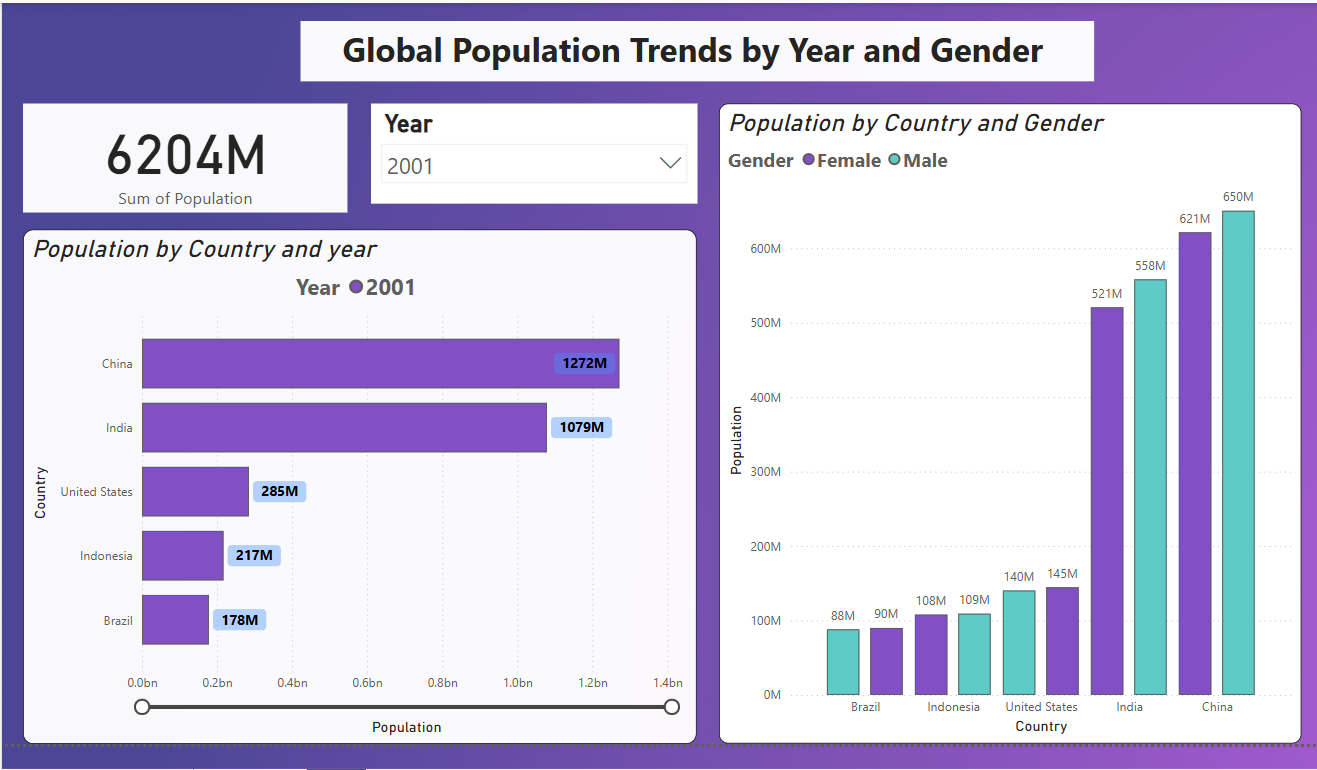

This screenshot's page, from the dashboard's own definition file:
{"tool":"powerbi","page":{"name":"Page 1","canvas":[1280,720],"ordinal":0},"visuals":[{"type":"slicer","fields":{"Values":["worldpopulationdata.Year"]},"box":[357.9,98.2,317.3,97.1],"z":0},{"type":"card","fields":{"Values":["Sum(worldpopulationdata.Population)"]},"box":[20.3,98.2,315,106.1],"z":1000},{"type":"clusteredBarChart","title":"Population by Country and year","fields":{"Category":["worldpopulationdata.Country Name"],"Y":["Sum(worldpopulationdata.Population)"],"Series":["worldpopulationdata.Year"]},"box":[20.3,220.2,654.9,500.2],"z":2000},{"type":"textbox","box":[290.2,16.9,771.2,58.7],"z":3000},{"type":"clusteredColumnChart","title":"Population by Country and Gender","fields":{"Y":["Sum(worldpopulationdata.Population)"],"Category":["worldpopulationdata.Country Name"],"Series":["worldpopulationdata.Gender"]},"box":[696.7,98.2,565.7,622.2],"z":4000}]}

Visuals, with their boxes in screenshot pixels (x1, y1, x2, y2):
slicer - worldpopulationdata.Year: <region>370, 103, 692, 202</region>
card - Sum(worldpopulationdata.Population): <region>27, 103, 347, 211</region>
"Population by Country and year" clusteredBarChart: <region>27, 227, 692, 734</region>
textbox: <region>301, 21, 1084, 80</region>
"Population by Country and Gender" clusteredColumnChart: <region>714, 103, 1288, 734</region>
